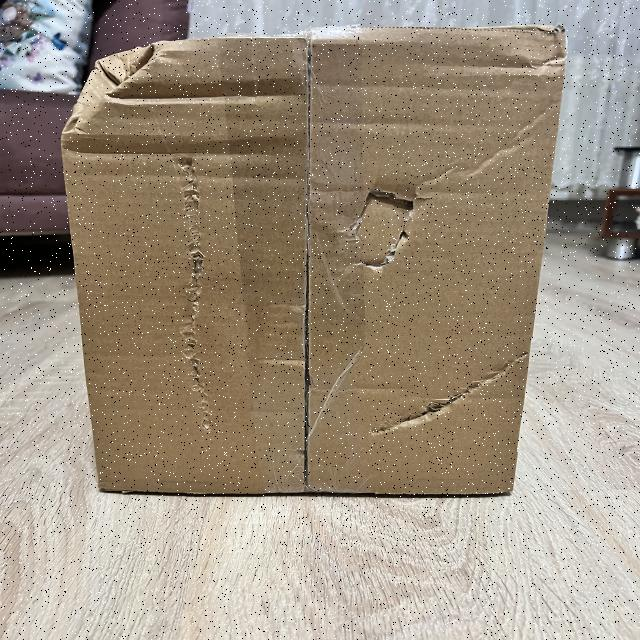damaged: (67, 25, 555, 504), (360, 338, 533, 452), (169, 146, 218, 437), (332, 170, 440, 292), (53, 41, 176, 132)
